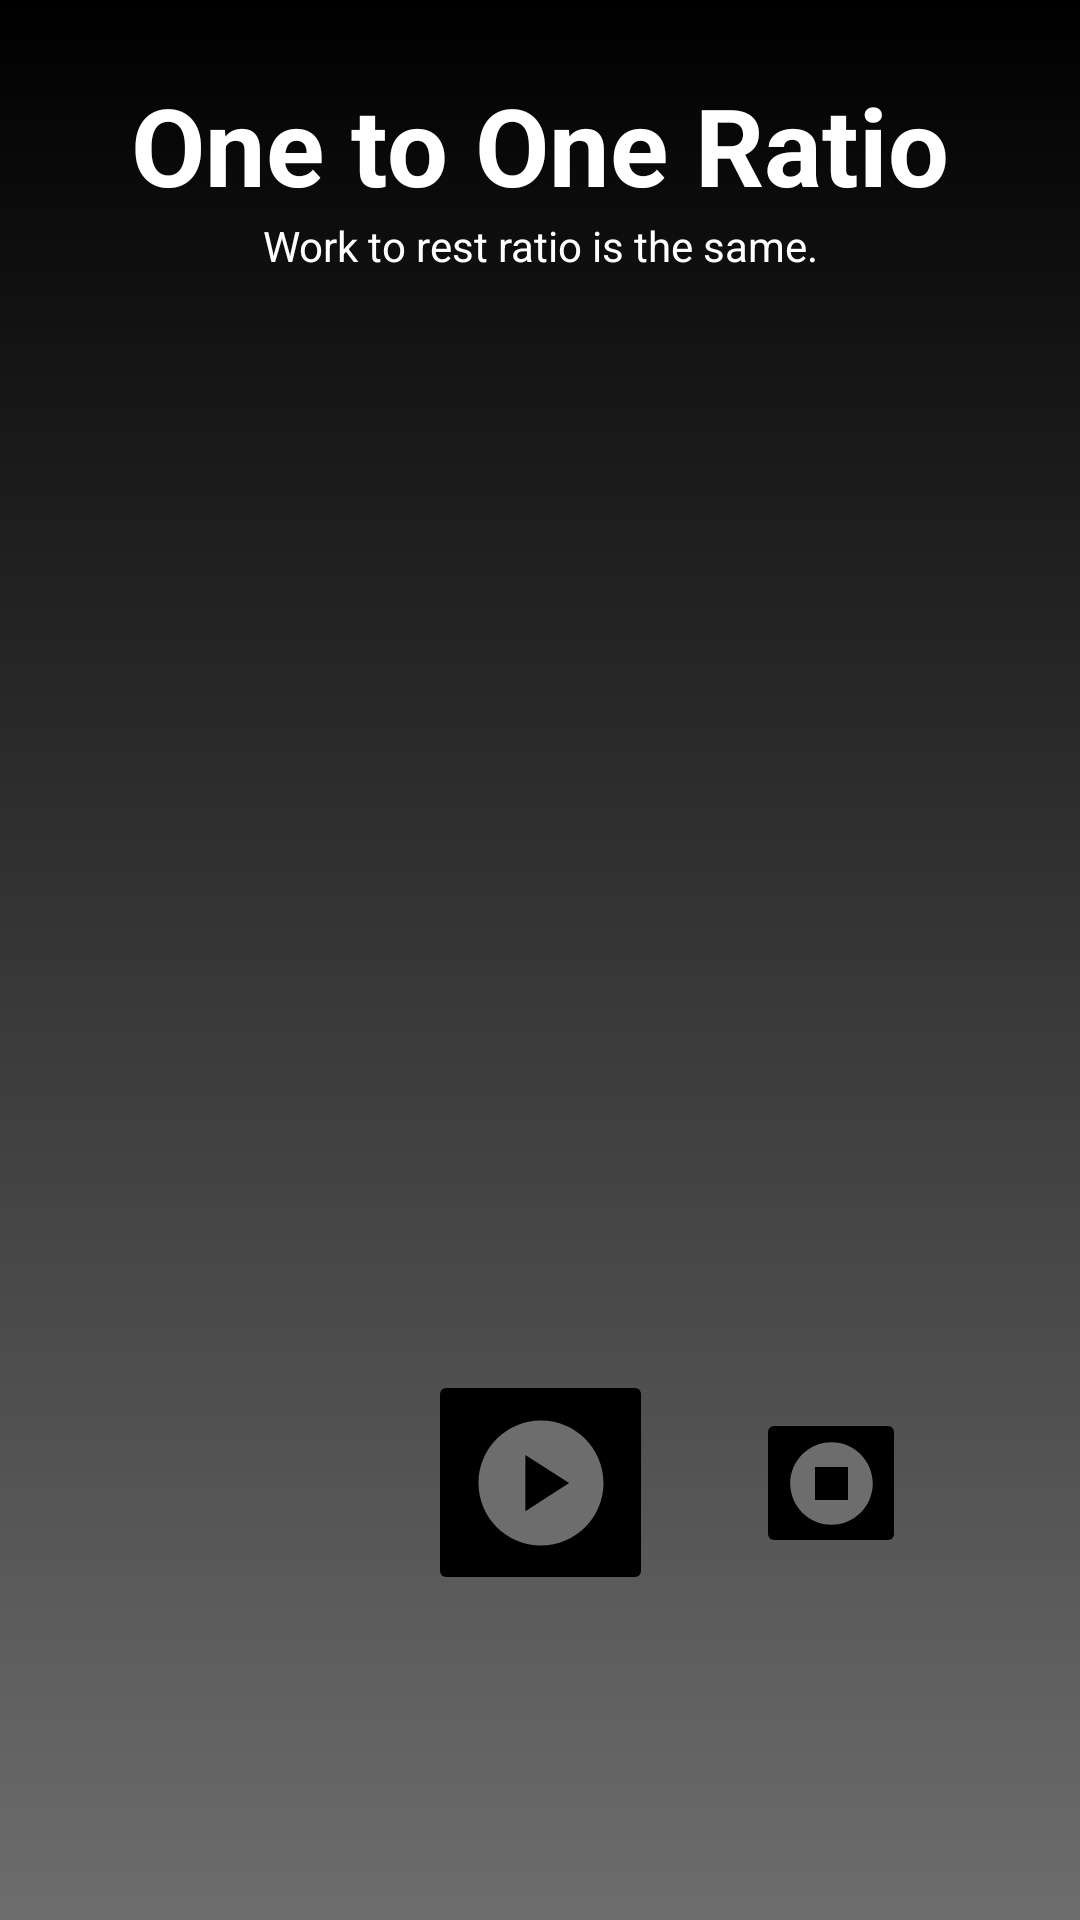

Icons on this 1080px×1920px Android screen, each with the point to tap as (x,y):
play: (540,1482)
stop: (831,1483)
